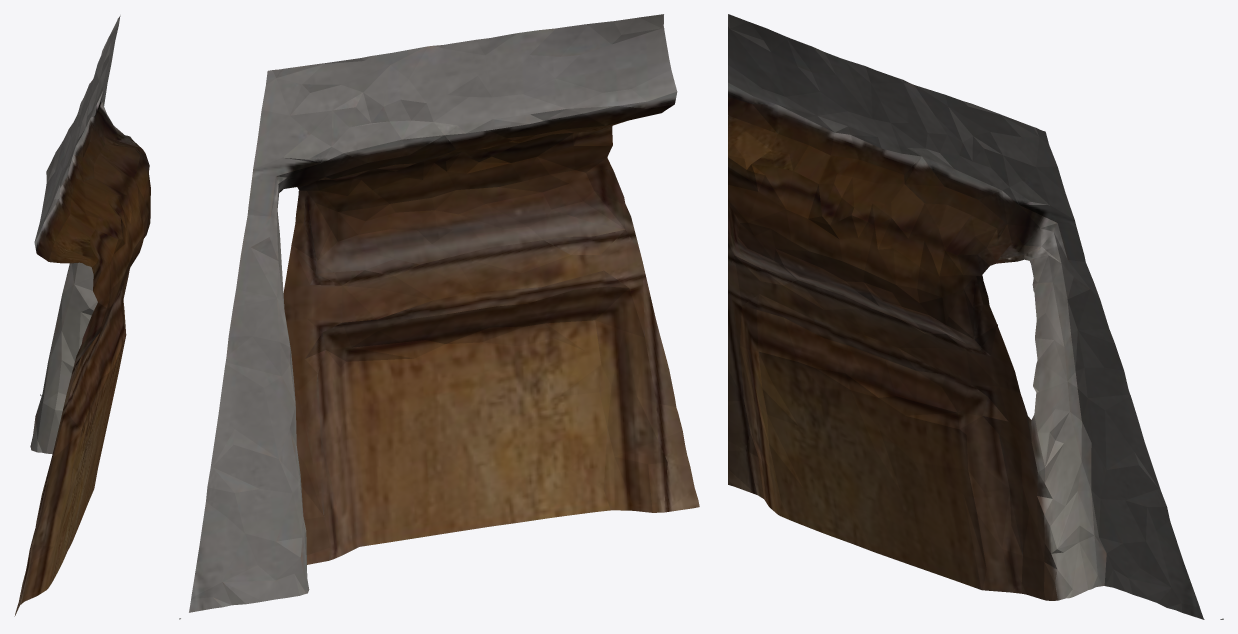
3 views of the same model, side by side, from view 1: azimuth 30°, elevation 25°; view 2: azimuth 150°, elevation 25°; view 3: azimuth 270°, elevation 25° (orthographic). The views are drawn at different scales.
Size of the model in its own units: 0.4969 by 0.8374 by 0.7704.
2 materials, 2 textured.
